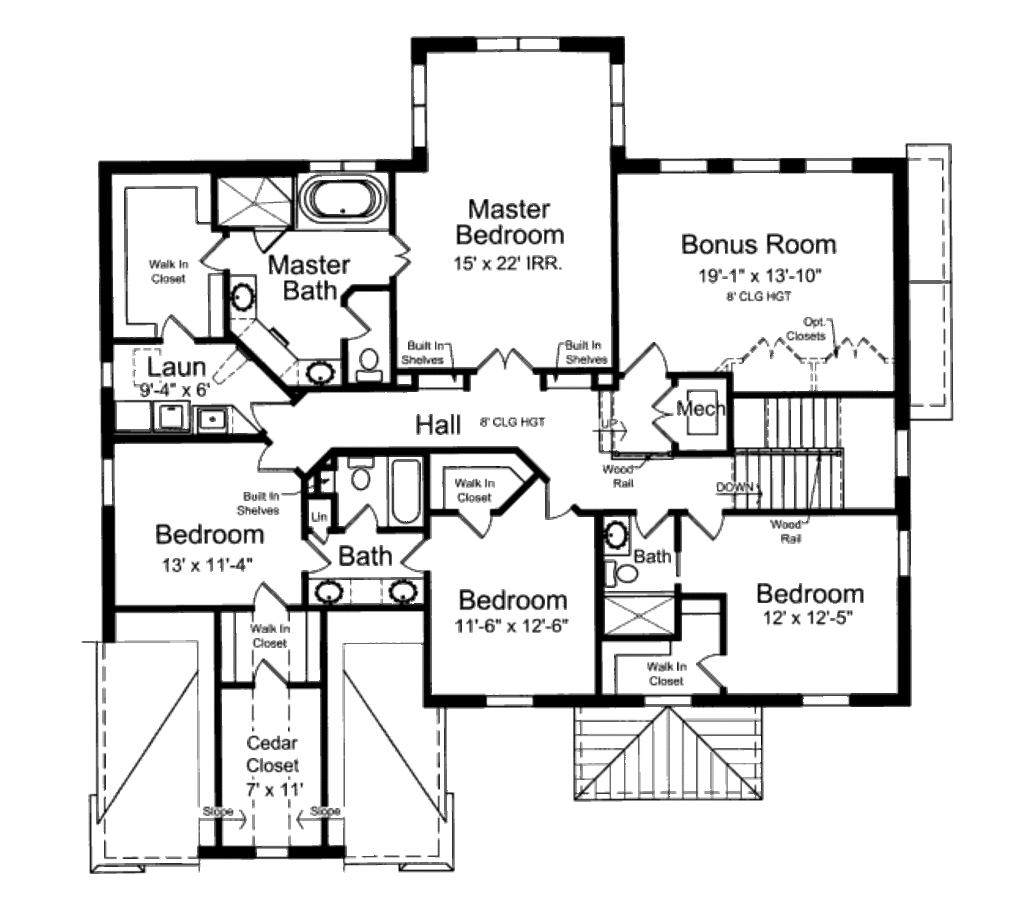door: (620, 339, 674, 378), (646, 383, 678, 445), (465, 345, 529, 375), (680, 500, 725, 542), (202, 226, 242, 272), (249, 441, 294, 480), (243, 393, 294, 427), (626, 501, 670, 538), (537, 480, 571, 526), (297, 533, 335, 574), (690, 653, 727, 693), (334, 304, 370, 344), (246, 581, 290, 613), (337, 503, 382, 534), (249, 659, 289, 693), (388, 234, 416, 279), (153, 314, 191, 346), (458, 508, 491, 537)
large_sink: (591, 560, 639, 594), (337, 453, 383, 488), (355, 344, 388, 389)
small_sink: (302, 574, 425, 609), (219, 272, 258, 325), (290, 350, 341, 385)
stairs: (729, 392, 903, 516)
tub: (289, 173, 391, 233), (384, 458, 427, 529)
windows: (654, 153, 854, 178), (604, 52, 633, 153), (406, 60, 435, 155), (472, 33, 565, 57), (471, 686, 535, 713), (97, 450, 119, 514), (794, 689, 853, 712)
